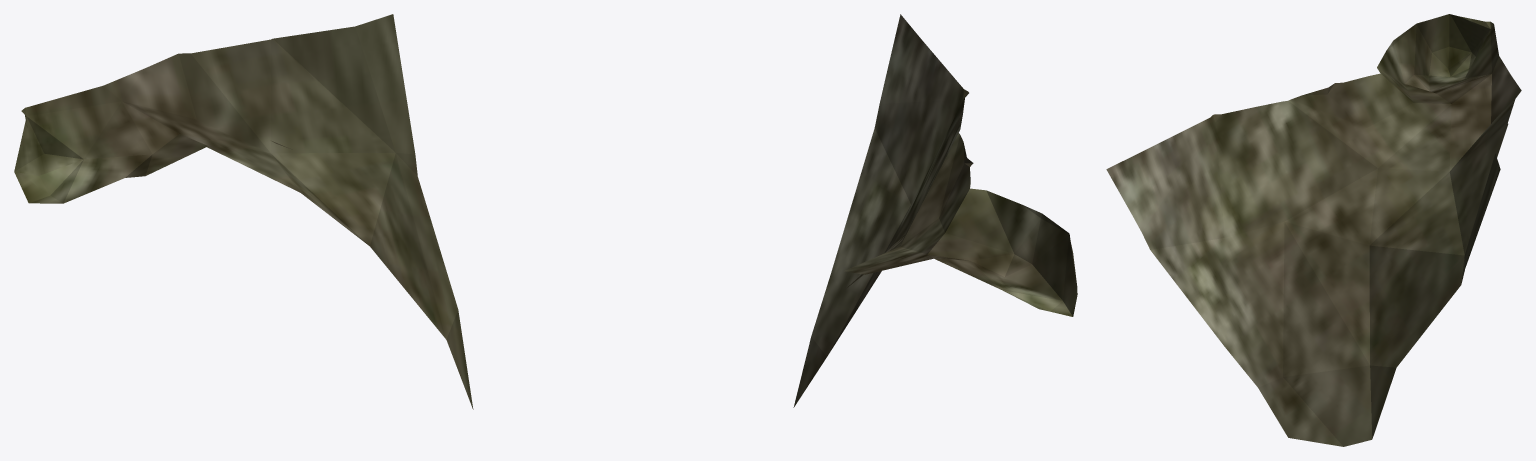
3 renders of one model, left to right at view 1: azimuth 30°, elevation 25°; view 2: azimuth 150°, elevation 25°; view 3: azimuth 270°, elevation 25°, orthographic. The views are drawn at different scales.
Bounding box in the file's own units: 1.46 × 1.2 × 1.63.
1 material, 1 textured.
